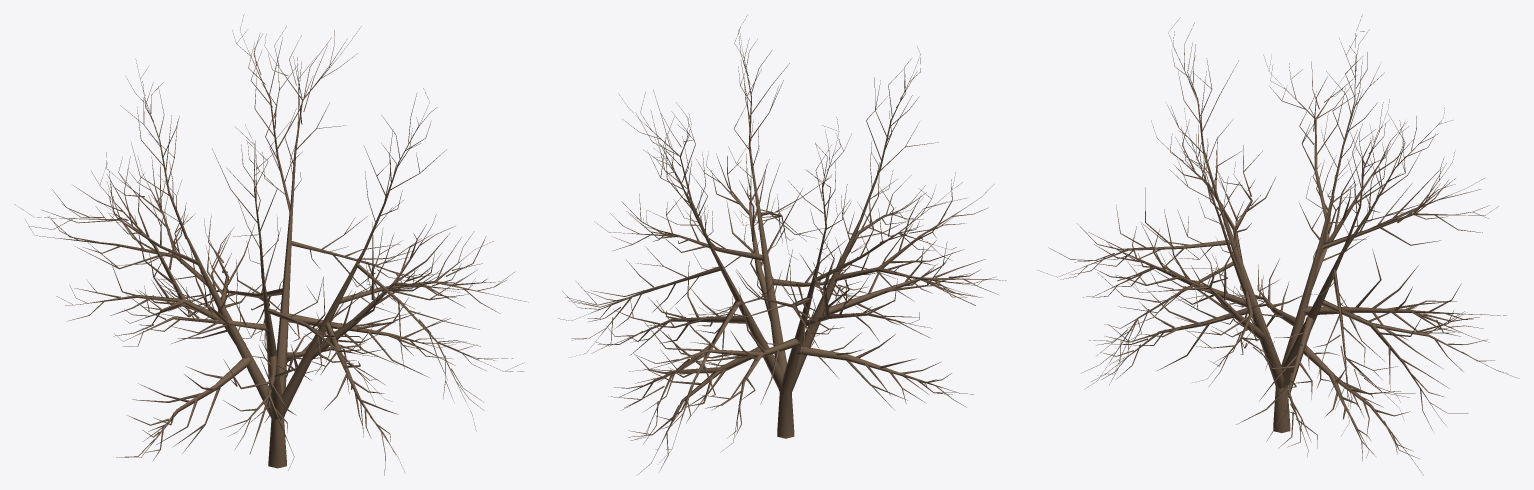
The model's file is pecher_hiver.glb.
3 renders of one model, left to right at view 1: azimuth 30°, elevation 25°; view 2: azimuth 150°, elevation 25°; view 3: azimuth 270°, elevation 25°, orthographic. The views are drawn at different scales.
Parts seen in each view (by area): view 1: Pecher_Tronc; view 2: Pecher_Tronc; view 3: Pecher_Tronc.
Part boxes in pixels (bbox=[...]): Pecher_Tronc: bbox=[14, 14, 528, 475]; Pecher_Tronc: bbox=[557, 15, 1006, 475]; Pecher_Tronc: bbox=[1037, 14, 1519, 475].
Size of the model in its own units: 5.63 by 5.03 by 5.78.
